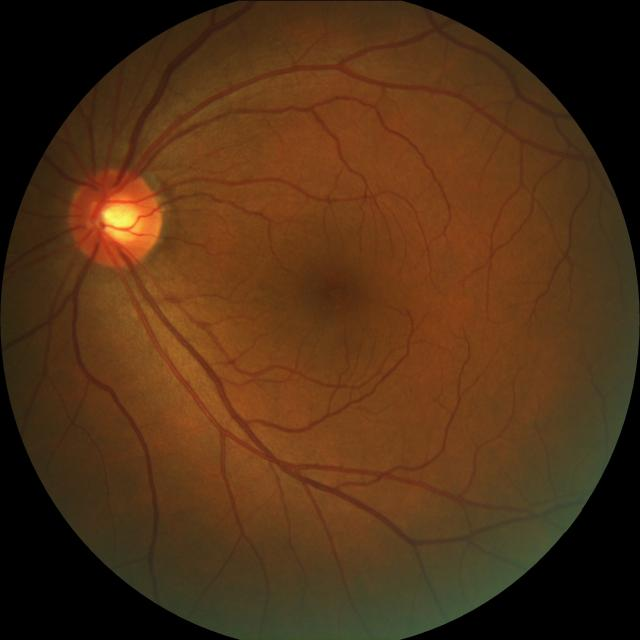OC: (88, 188, 141, 245)
OD: (66, 168, 161, 268)
